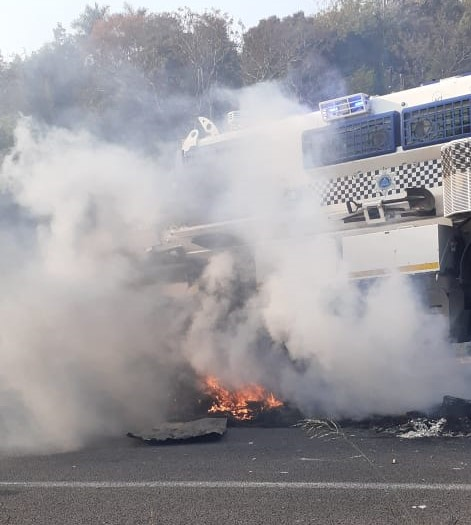smoke: (12, 137, 151, 436), (203, 155, 352, 376), (367, 281, 464, 405)
